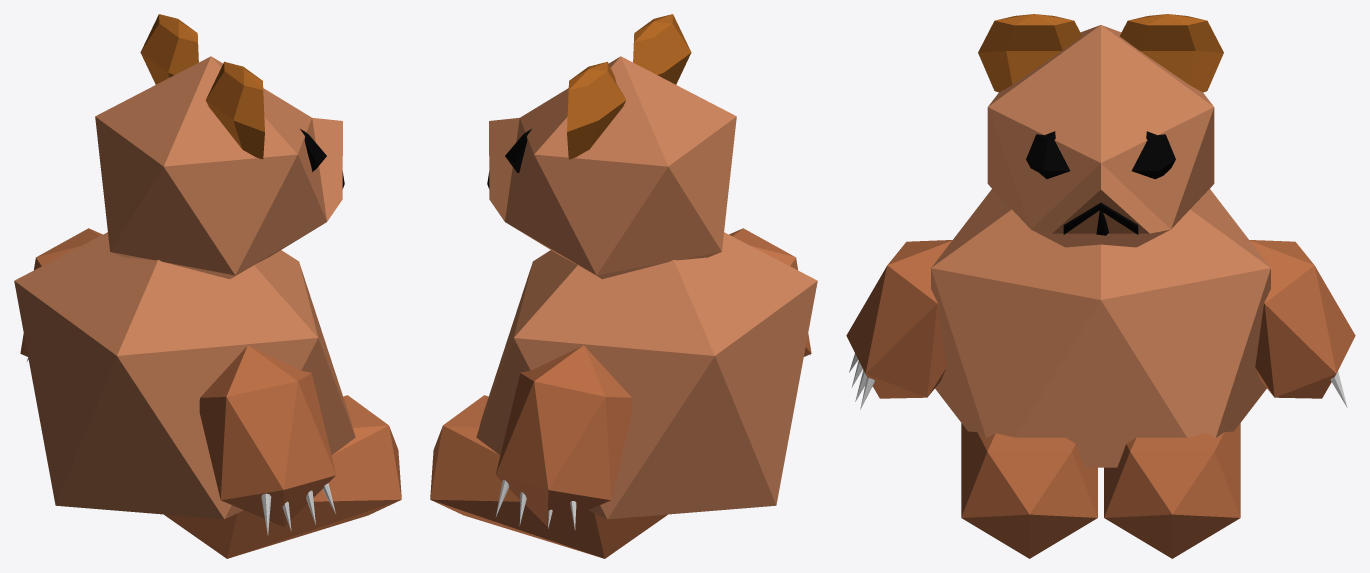
File: toybearharharharhar.fbx
3 views of the same model, side by side, from view 1: azimuth 30°, elevation 25°; view 2: azimuth 150°, elevation 25°; view 3: azimuth 270°, elevation 25° (orthographic). The views are drawn at different scales.
Visible parts, largest first — view 1: Cylinder.001; view 2: Cylinder.001; view 3: Cylinder.001.
Boxes of the visible parts, box(x1,y1,x2,y2) form: Cylinder.001: box(14, 14, 401, 558); Cylinder.001: box(430, 14, 817, 558); Cylinder.001: box(846, 14, 1355, 558).
Bounding box in the file's own units: 273 × 401 × 382.
